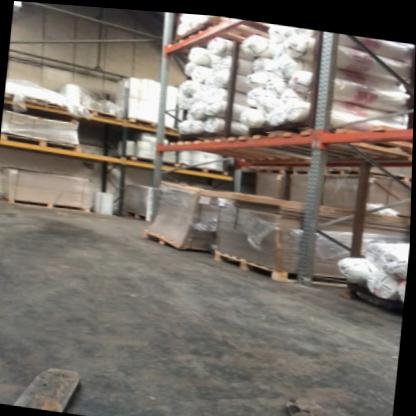vertical_damage: (293, 260, 320, 287)
